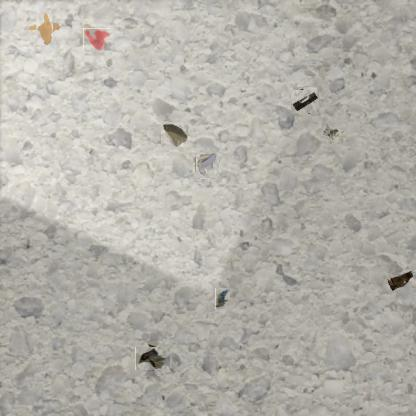dirty: (138, 344, 168, 373), (160, 122, 188, 148), (385, 269, 415, 293), (292, 88, 318, 114), (194, 154, 218, 178), (322, 122, 346, 144), (215, 287, 230, 309)
liquid: (83, 28, 110, 51), (31, 17, 56, 41)
